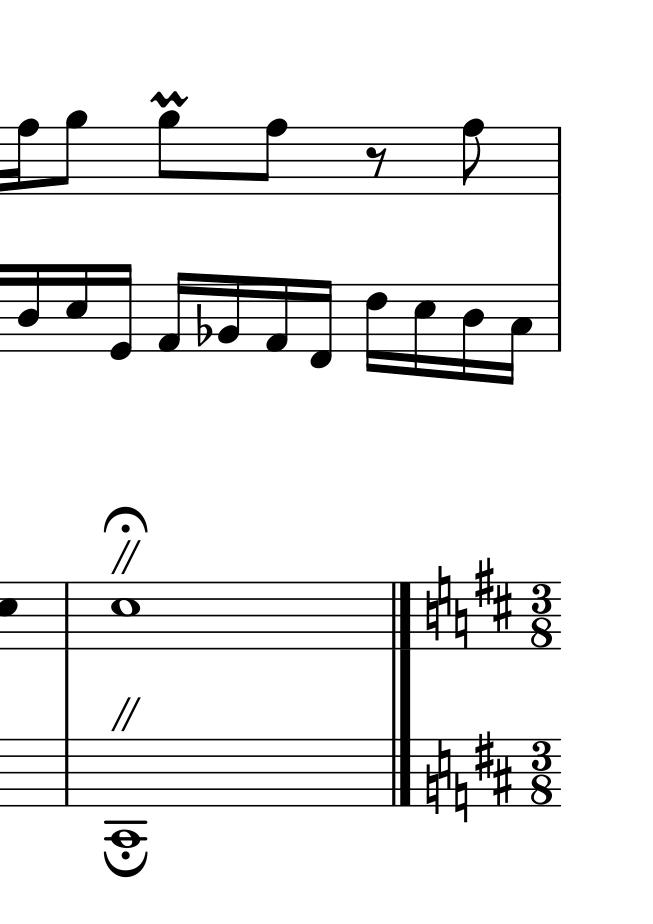16_-1: (310, 278, 336, 370)
16_0: (108, 262, 136, 362)
16_1: (154, 271, 190, 354), (264, 276, 293, 356)
16_2: (217, 272, 243, 353)
16_3: (501, 282, 534, 385)
16_4: (457, 283, 486, 386), (18, 263, 44, 354)
16_5: (411, 283, 438, 379), (65, 261, 93, 352)
16_6: (362, 281, 391, 375)
16_8: (3, 117, 37, 197)
1_-4: (103, 735, 147, 850)
1_5: (109, 580, 140, 651)
3: (529, 583, 556, 615), (529, 738, 554, 772)
8: (528, 615, 555, 649), (529, 772, 552, 806)
8_8: (459, 117, 484, 196)
8_9: (53, 109, 88, 196), (253, 117, 288, 198), (156, 109, 183, 197)
Caesura: (108, 695, 142, 731), (111, 538, 142, 575)
Fermata_above: (99, 848, 151, 877), (103, 506, 150, 537)
Flat: (195, 300, 214, 352)
Rests8: (366, 144, 389, 182)
ShortTrill: (149, 89, 190, 108)
Single_barline: (549, 283, 572, 351), (549, 126, 568, 195)
TimeSig: (528, 737, 555, 807), (531, 580, 555, 652)
